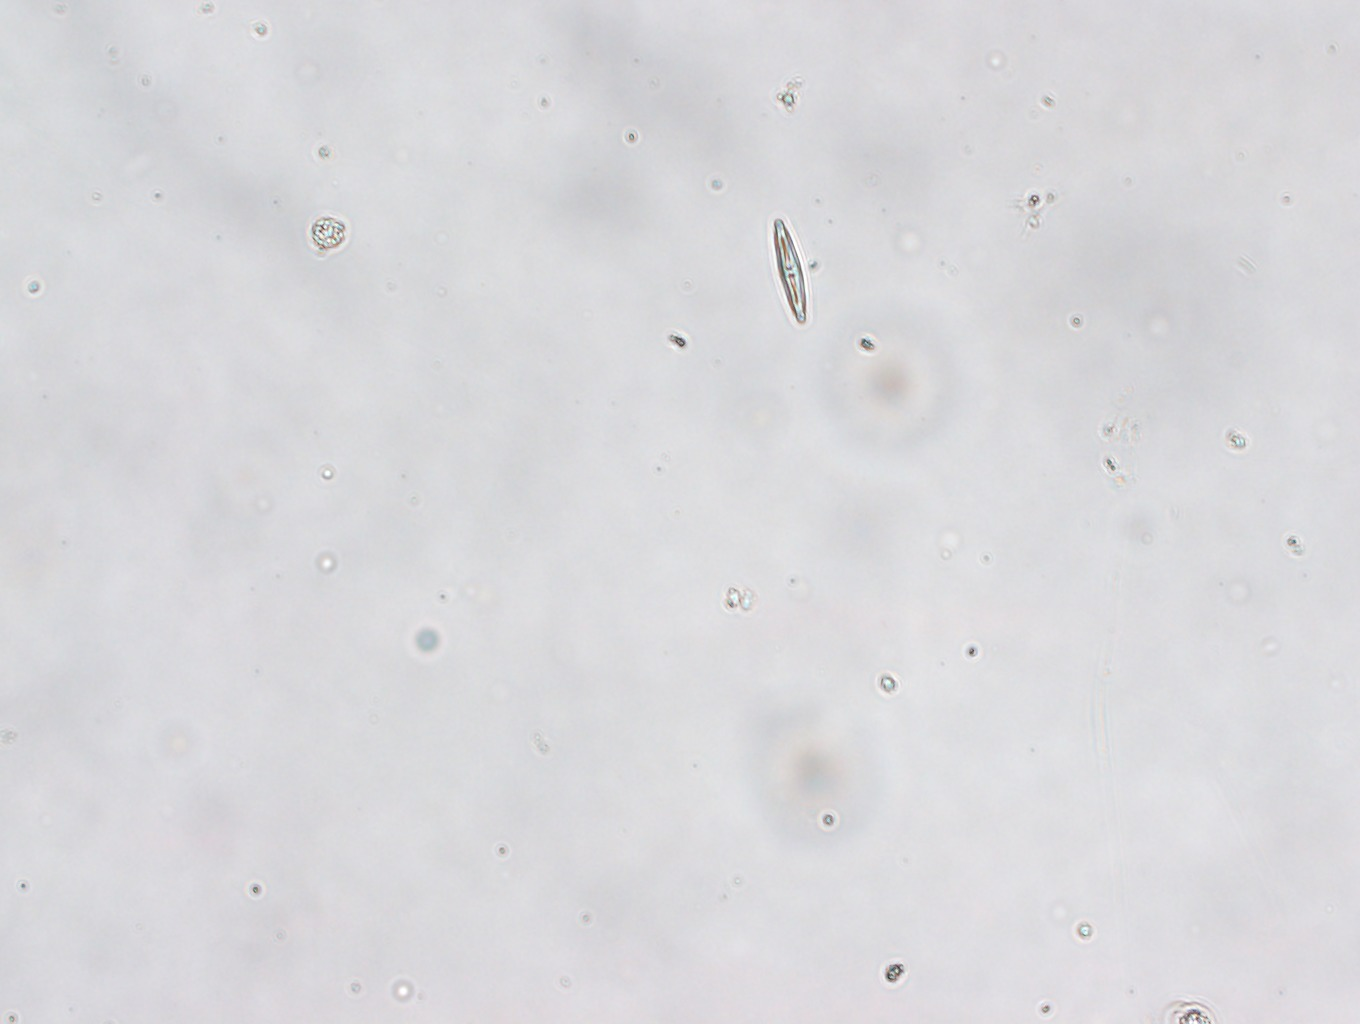navicula: (770, 218, 808, 324)
